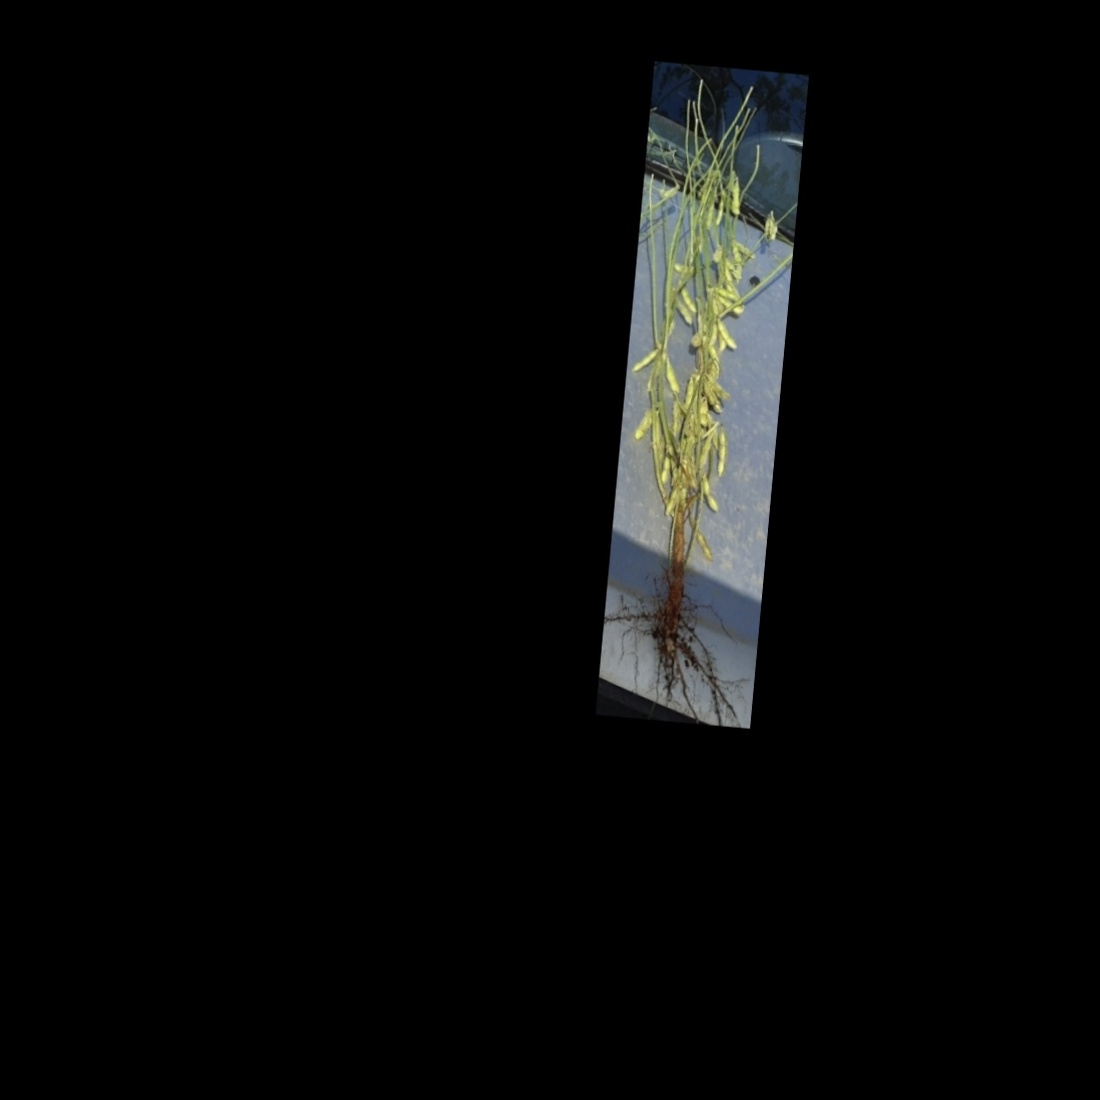pod: (659, 353, 685, 399), (698, 478, 726, 518), (712, 423, 730, 482), (691, 528, 718, 565), (712, 319, 740, 351), (728, 180, 745, 218), (678, 286, 699, 315)
soy: (600, 112, 799, 700)
